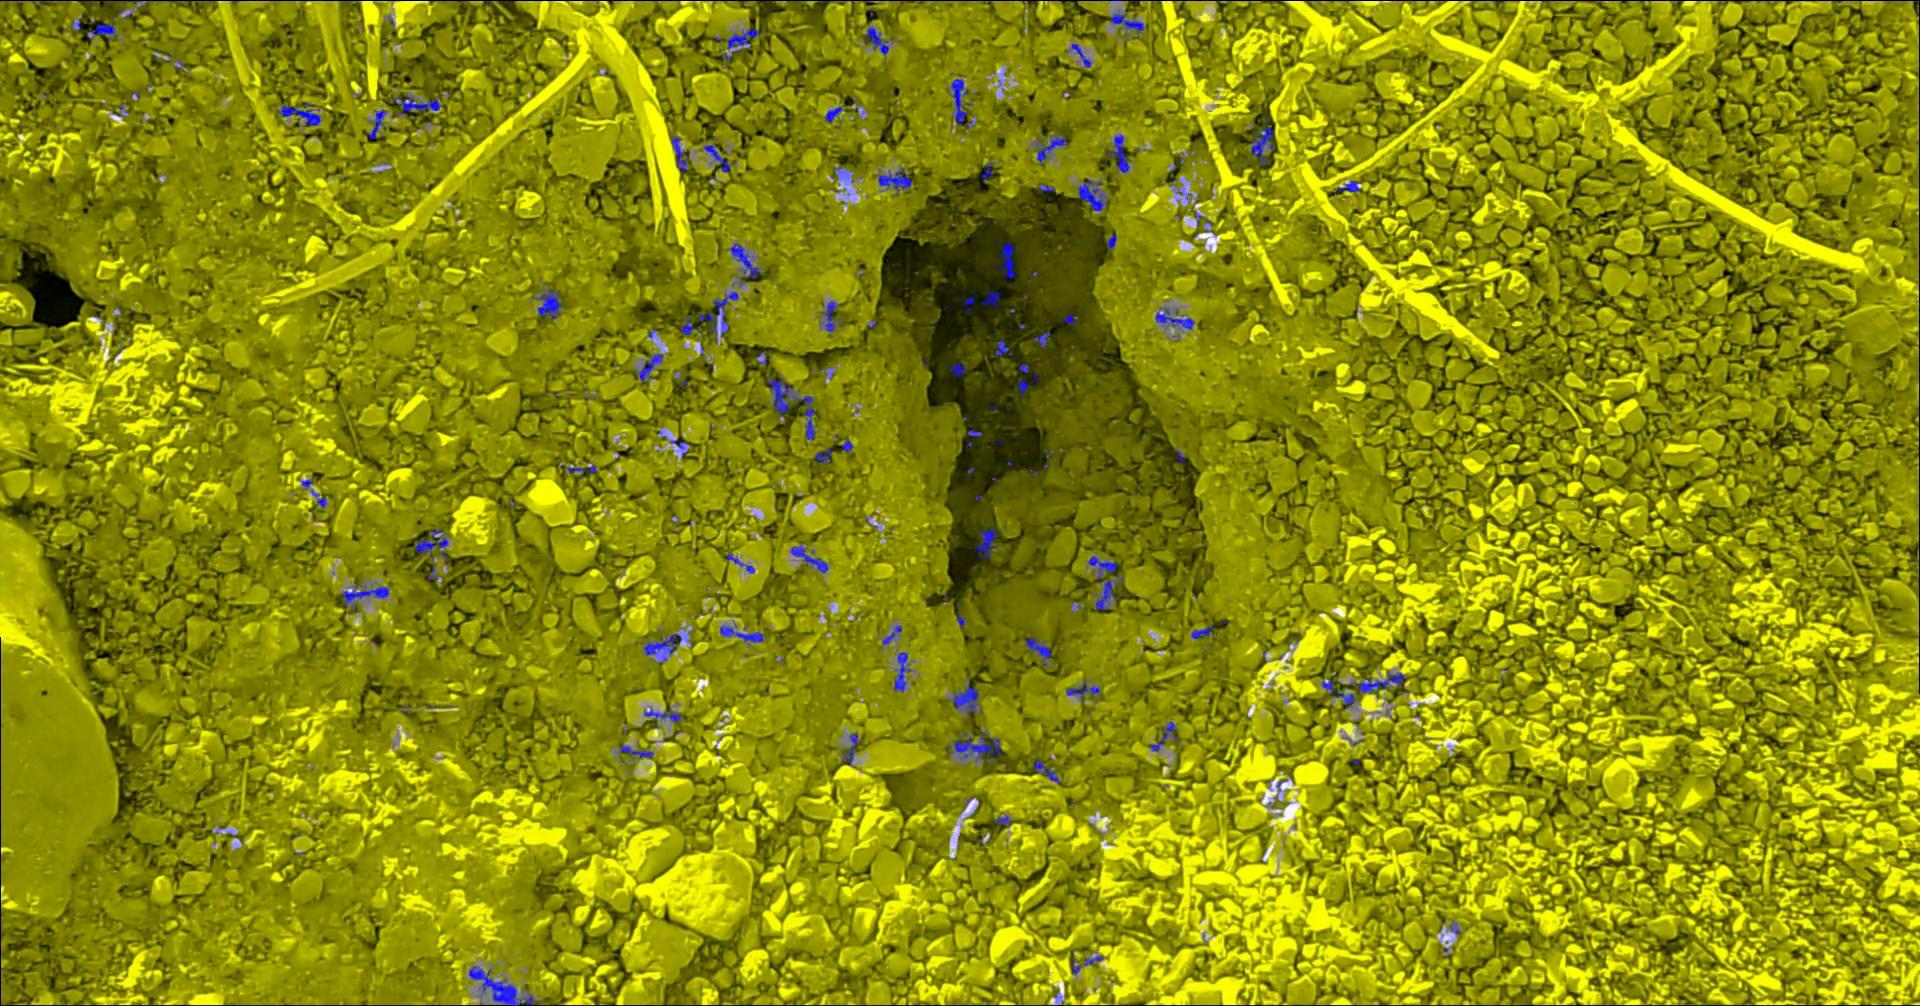ant: (767, 376, 815, 439), (469, 965, 538, 1005), (698, 291, 738, 342), (1087, 555, 1123, 610), (946, 730, 999, 762), (715, 27, 758, 61), (339, 583, 389, 612), (728, 243, 763, 282), (1346, 671, 1406, 692), (947, 680, 982, 714), (414, 528, 447, 564), (643, 633, 681, 663), (947, 77, 971, 124), (1321, 677, 1355, 708), (391, 94, 439, 116), (1034, 131, 1065, 163), (877, 166, 912, 196), (1250, 124, 1274, 165), (1077, 179, 1109, 210), (790, 546, 828, 572), (279, 102, 320, 124), (1148, 720, 1178, 751), (1106, 133, 1130, 171), (1109, 9, 1143, 36), (531, 288, 561, 318), (1154, 307, 1194, 329), (719, 624, 764, 641), (1023, 636, 1050, 666), (703, 144, 730, 171), (635, 353, 662, 381), (862, 25, 888, 55), (974, 528, 998, 559), (1070, 951, 1102, 974), (893, 652, 910, 692), (644, 708, 681, 727), (997, 239, 1015, 278), (1065, 681, 1100, 701), (1032, 760, 1060, 782), (670, 135, 687, 171), (822, 300, 841, 332), (725, 553, 754, 573), (841, 732, 858, 765), (367, 109, 386, 138), (86, 23, 117, 41), (563, 462, 596, 478), (1070, 43, 1091, 67), (618, 744, 651, 758), (881, 624, 902, 645), (77, 0, 161, 5), (681, 316, 701, 335), (669, 437, 688, 457), (982, 288, 1001, 307), (310, 489, 326, 511), (1190, 624, 1213, 638), (813, 448, 833, 464), (824, 105, 842, 122), (959, 295, 974, 311), (1032, 332, 1049, 347), (994, 339, 1011, 354), (949, 362, 965, 376), (980, 161, 993, 179), (1338, 180, 1360, 191), (1016, 379, 1029, 395), (1106, 232, 1116, 249), (994, 815, 1011, 824)
